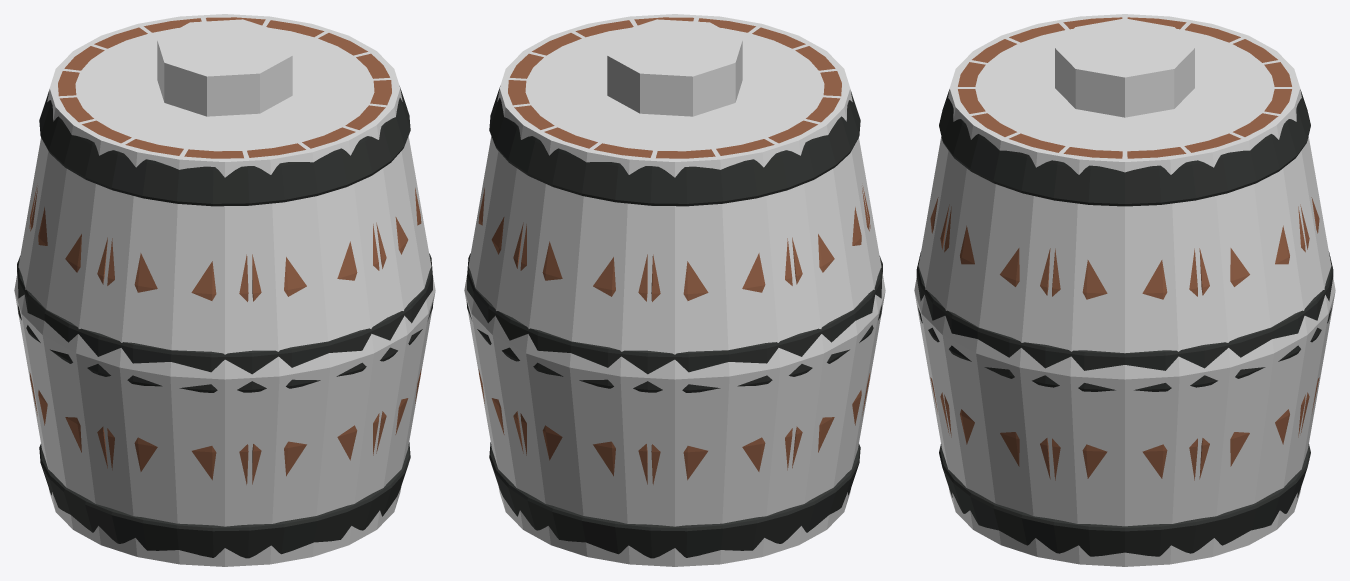
File: Bombe.fbx
The picture shows the model from 3 angles, left to right: view 1: azimuth 30°, elevation 25°; view 2: azimuth 150°, elevation 25°; view 3: azimuth 270°, elevation 25°; orthographic projection.
Visible parts, largest first — view 1: Bombcoll 1, Bombe, Bombcoll 2; view 2: Bombcoll 1, Bombe, Bombcoll 2; view 3: Bombcoll 1, Bombe, Bombcoll 2.
Boxes of the visible parts, bbox=[...] form: Bombcoll 1: bbox=[14, 14, 435, 566]; Bombe: bbox=[17, 17, 432, 558]; Bombcoll 2: bbox=[157, 19, 292, 116]; Bombcoll 1: bbox=[464, 14, 885, 566]; Bombe: bbox=[467, 17, 882, 558]; Bombcoll 2: bbox=[607, 19, 742, 116]; Bombcoll 1: bbox=[914, 14, 1335, 566]; Bombe: bbox=[916, 17, 1333, 556]; Bombcoll 2: bbox=[1055, 18, 1194, 117].
Bounding box in the file's own units: 301 × 351 × 301.
